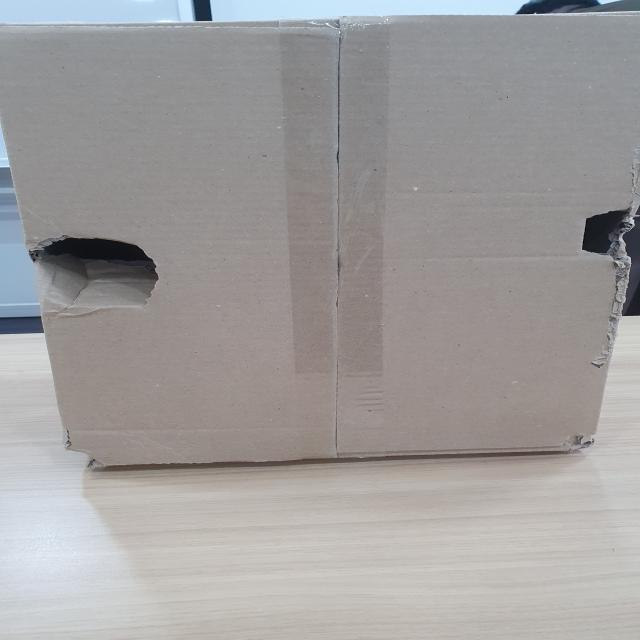hole: (26, 232, 166, 307), (568, 197, 640, 267)
